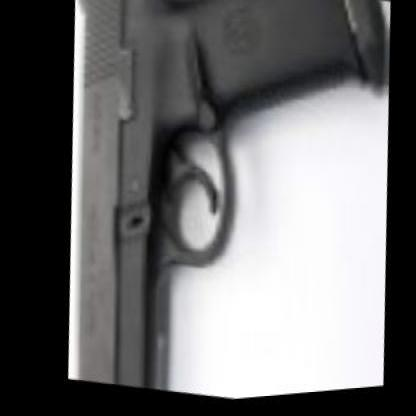pistol: (29, 0, 415, 413)
